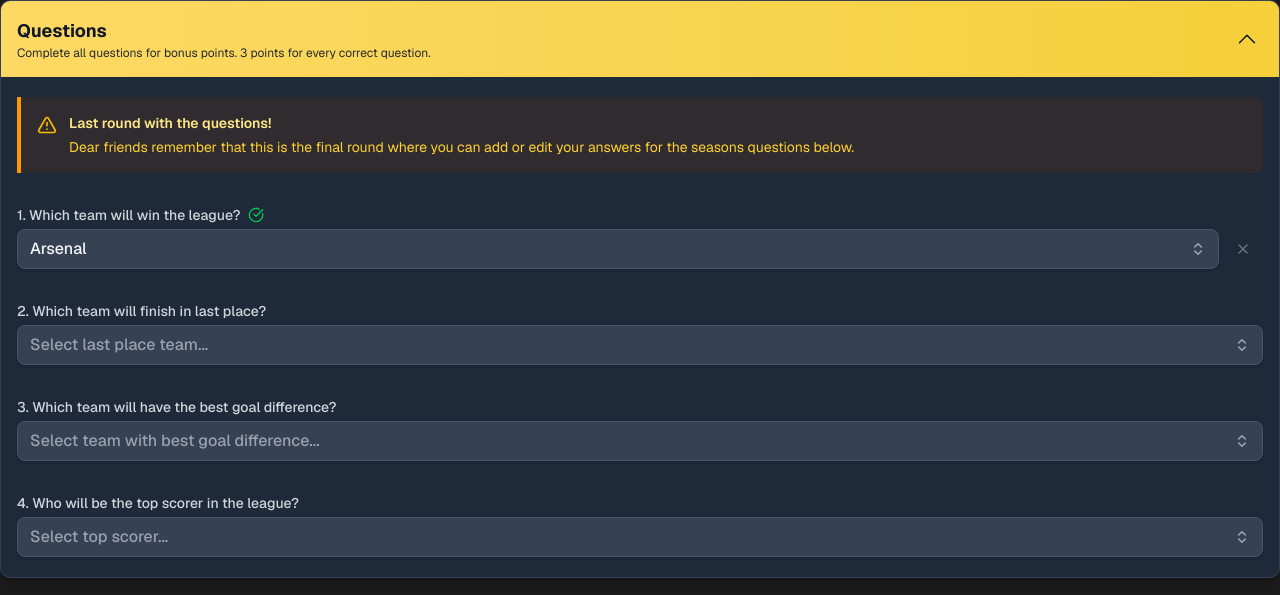
Test: Questionnaire Component with Combobox › clears selected value when clear button is clicked
Expected: the dropdown named "Select a team for league-winner" reads "Arsenal", left=17, top=229, right=1219, bottom=269
Note: Click the clear button
Click the button named "clear" at (1243, 249), box left=1223, top=229, right=1263, bottom=269
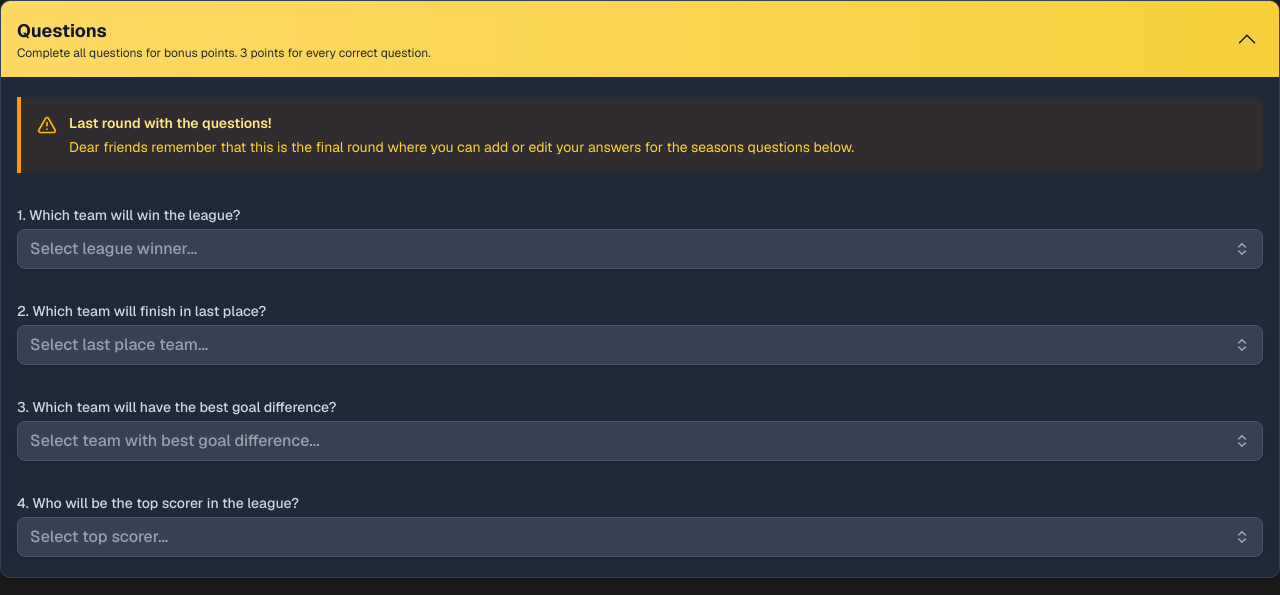
Result: the dropdown named "Select a team for league-winner" reads "Select league winner..." at left=17, top=229, right=1263, bottom=269
